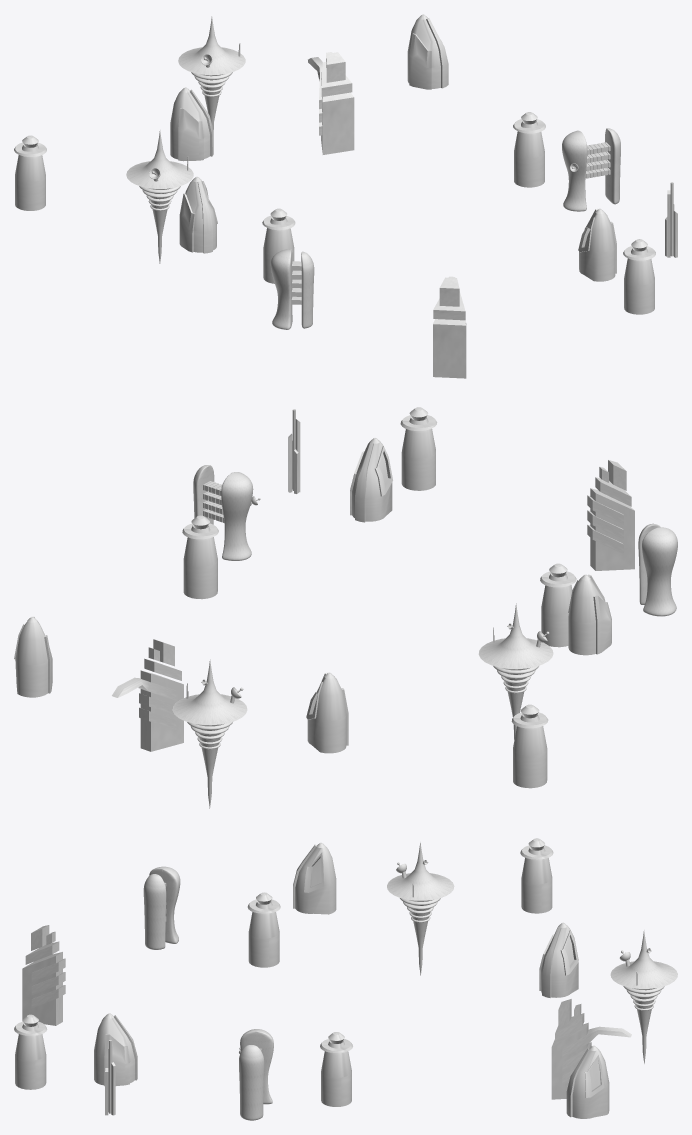
File: JumpMap_scenery.fbx
3 views of the same model, one above another, from view 1: azimuth 30°, elevation 25°; view 2: azimuth 150°, elevation 25°; view 3: azimuth 270°, elevation 25° (orthographic). The views are drawn at different scales.
Visible parts, largest first — view 1: pasted__pCube1 (×2), pasted__nurbsToPoly3 (×2), building2_2, building2_3, building2_4, building2_1, building1_2, building1_4, building1_1, pasted__nurbsToPoly1, building1_3, pasted__nurbsToPoly5 (+4 smaller); view 2: pasted__pCube1 (×2), pasted__nurbsToPoly3 (×2), building2_4, building2_1, building2_2, building1_2, building1_4, building1_1, pasted__nurbsToPoly5, building2_3, pasted__nurbsToPoly1, building1_3 (+3 smaller); view 3: pasted__nurbsToPoly3 (×2), pasted__pCube1 (×2), building2_4, building2_3, building2_2, building2_1, building1_3, building1_1, building1_4, building1_2, pasted__nurbsToPoly2, pasted__nurbsToPoly6 (+4 smaller).
Part boxes in pixels (x1,y1,x2,y2): pasted__pCube1 (×2): (321,69,466,378); pasted__nurbsToPoly3 (×2): (126,16,245,188); building2_2: (170,87,213,161); building2_3: (407,14,448,89); building2_4: (179,176,217,253); building2_1: (578,208,616,281); building1_2: (513,112,545,187); building1_4: (623,239,655,314); building1_1: (14,135,46,210); pasted__nurbsToPoly1: (562,130,587,211); building1_3: (262,208,295,283); pasted__nurbsToPoly5: (270,249,292,329); pasted__pCube1 (×2): (140,488,634,751); pasted__nurbsToPoly3 (×2): (173,603,553,724); building2_4: (568,574,611,655); building2_1: (350,438,392,522); building2_2: (306,672,348,753); building1_2: (182,515,218,599); building1_4: (400,407,437,490); building1_1: (511,704,548,788); pasted__nurbsToPoly5: (642,527,677,616); building2_3: (14,616,52,697); pasted__nurbsToPoly1: (221,472,253,560); building1_3: (540,563,576,647); pasted__nurbsToPoly3 (×2): (387,842,677,988); pasted__pCube1 (×2): (22,952,588,1099); building2_4: (293,842,336,914); building2_3: (566,1045,609,1118); building2_2: (539,922,578,997); building2_1: (94,1013,137,1086); building1_3: (247,892,280,967); building1_1: (520,838,553,913); building1_4: (14,1014,47,1089); building1_2: (320,1032,352,1106); pasted__nurbsToPoly2: (239,1045,264,1120); pasted__nurbsToPoly6: (143,874,166,949).
Size of the model in its own units: 1504 by 453 by 1890.
Materials: 1 (1 with a texture image).
